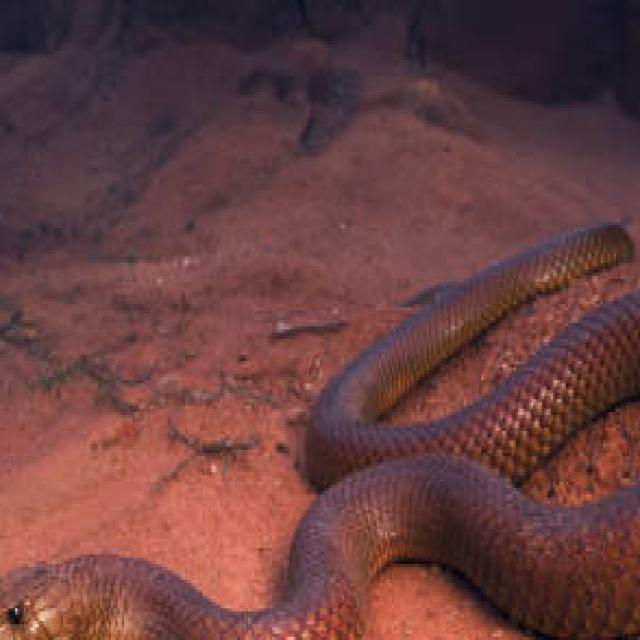Snake: (0, 216, 640, 640)
